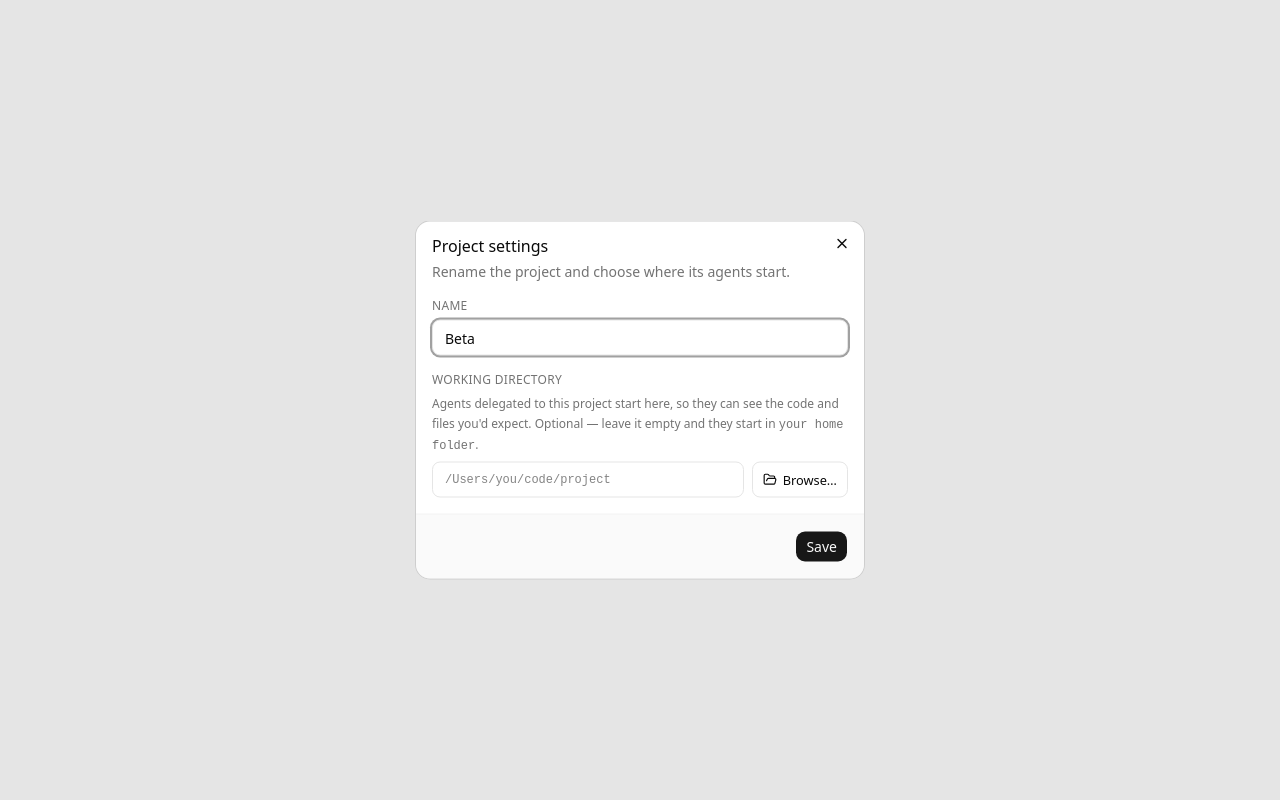
Test: the working directory › clears a stale missing-folder warning when the dialog is reopened
Expected: the field labelled "Name" holds "Beta", [432,320,848,356]
Type "/nope/gone" into the field labelled "Working directory". click: (588, 480)
box: [432,462,744,498]
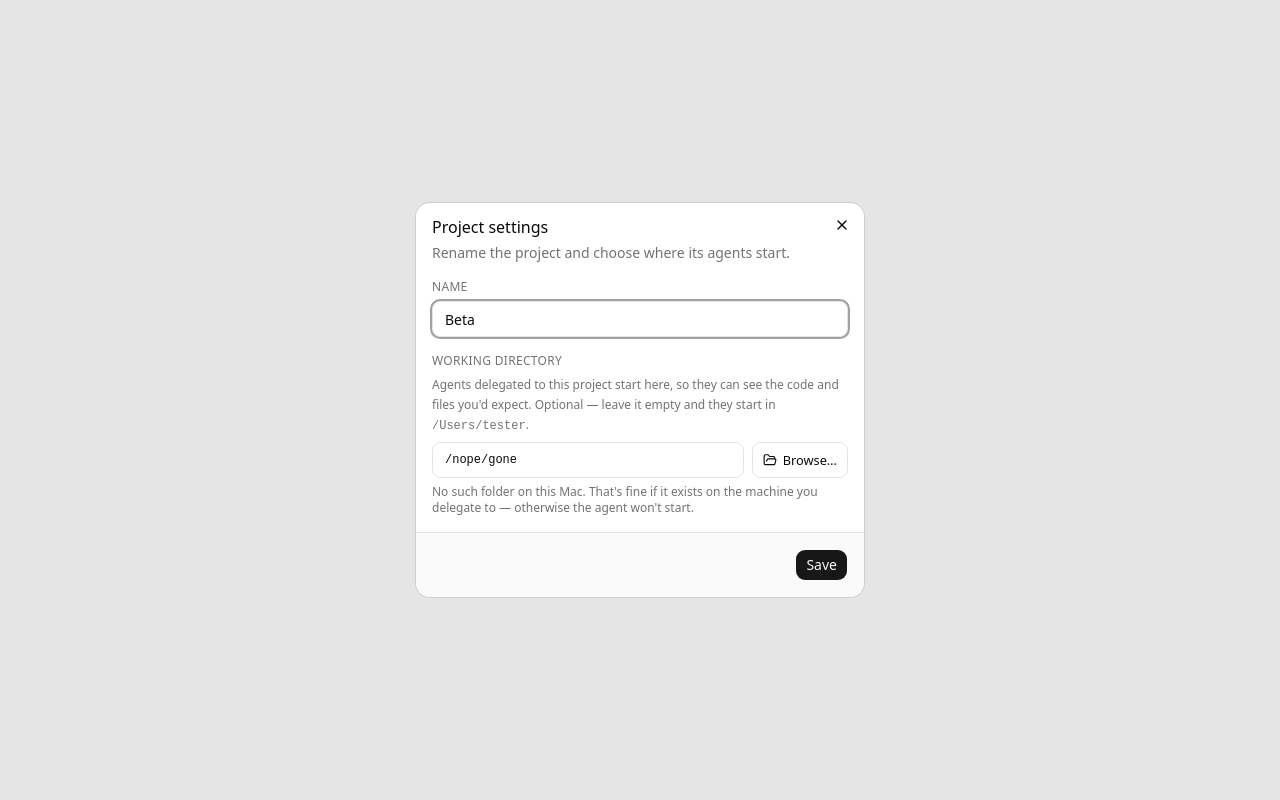
Expected: the text "No such folder" is shown, [432,483,818,516]
